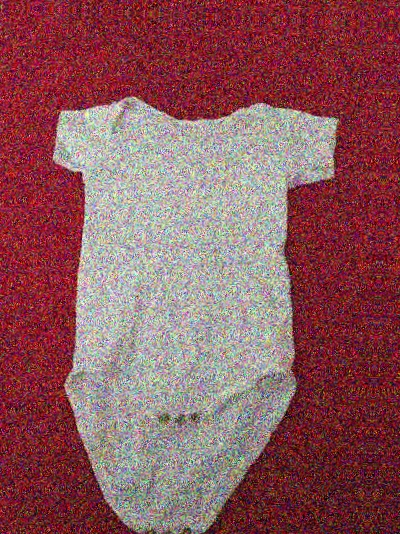Body: (2, 75, 356, 534), (399, 94, 400, 534)
